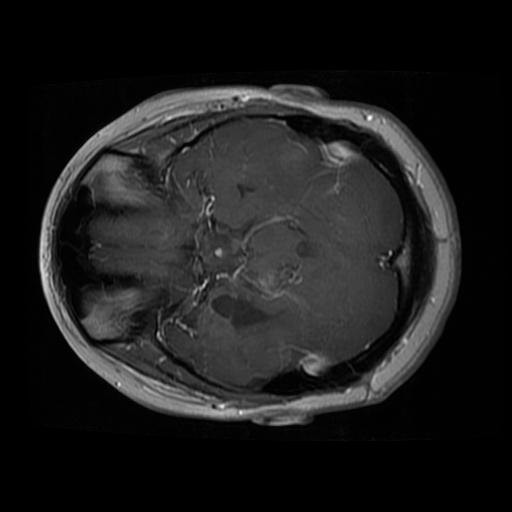glioma: (203, 253, 302, 334)
